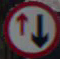Two way: (4, 8, 50, 47)
